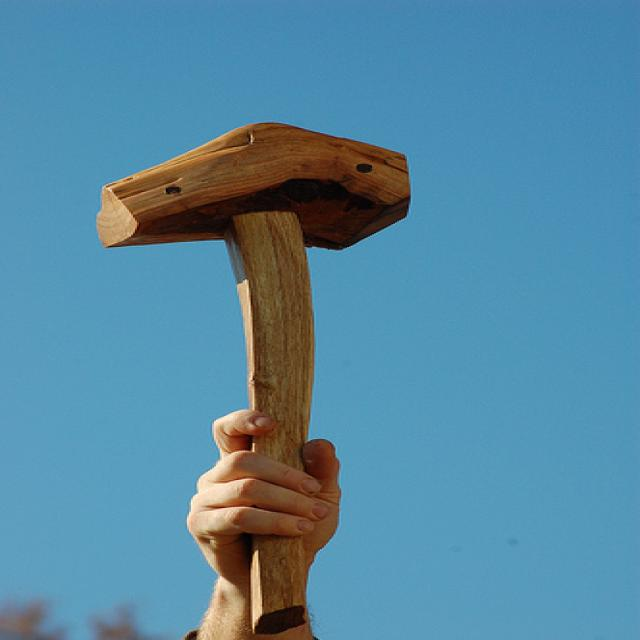hammer: (92, 117, 407, 640)
